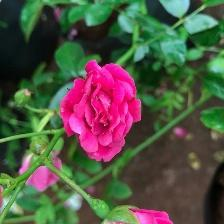rose: (60, 58, 143, 163)
